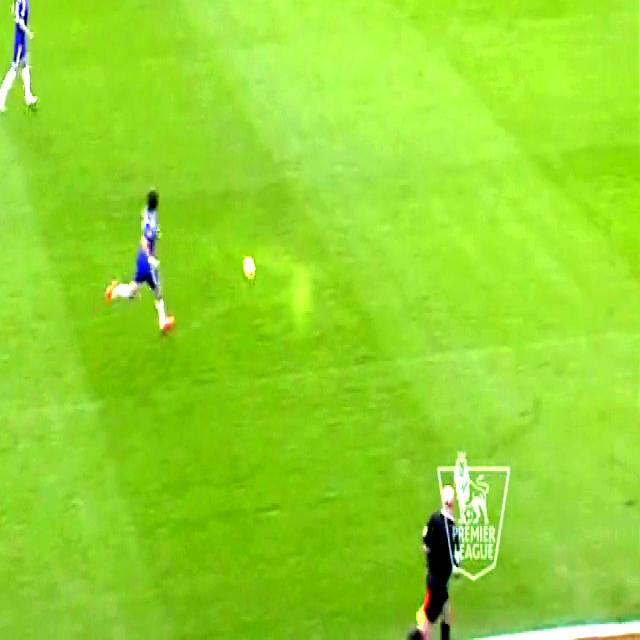ball: (240, 247, 261, 296)
referee: (410, 470, 463, 640)
soccer-player: (102, 156, 179, 340), (0, 0, 43, 124)
